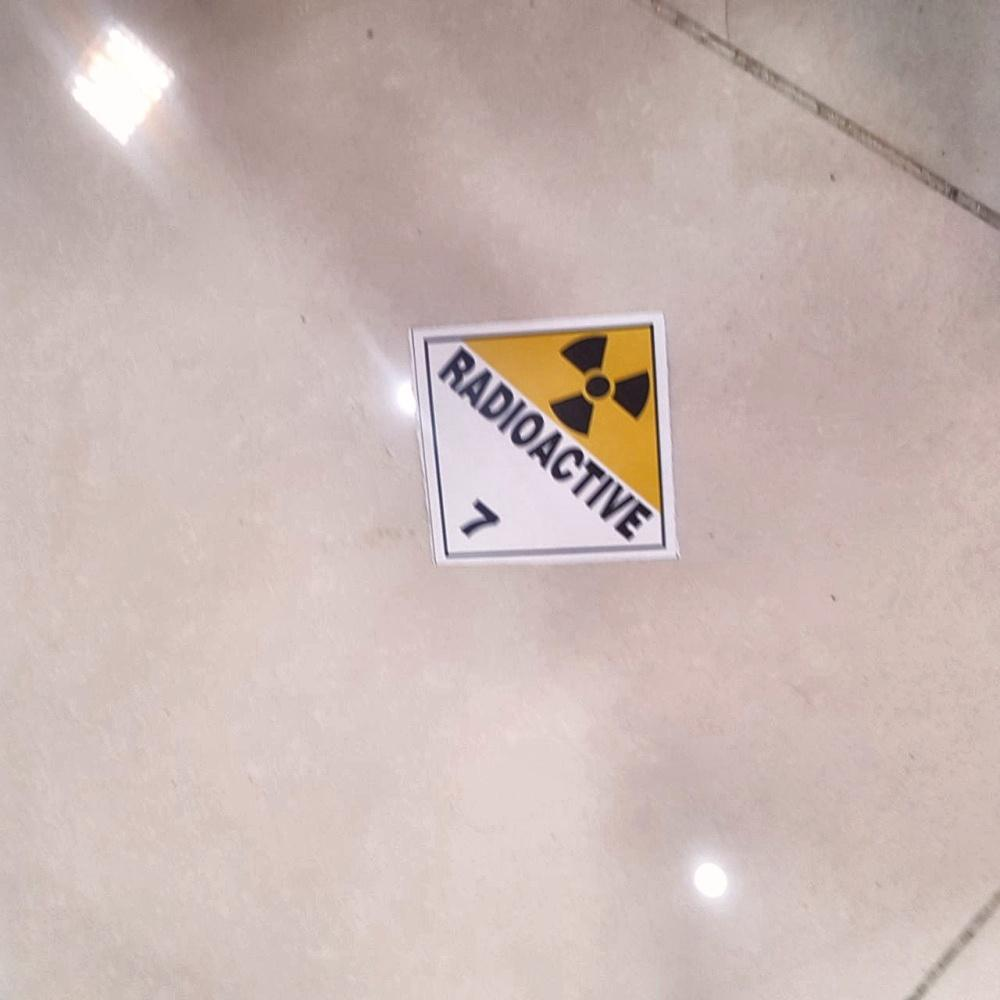radioactive: (406, 312, 683, 571)
